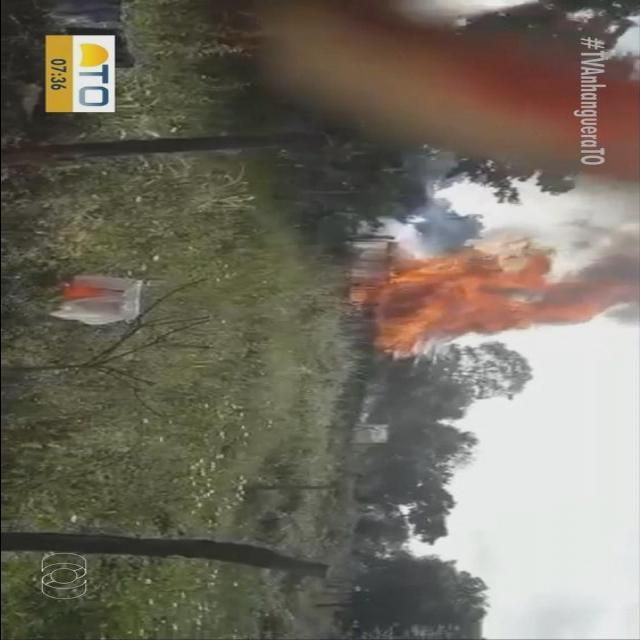Fire: (370, 242, 612, 358)
